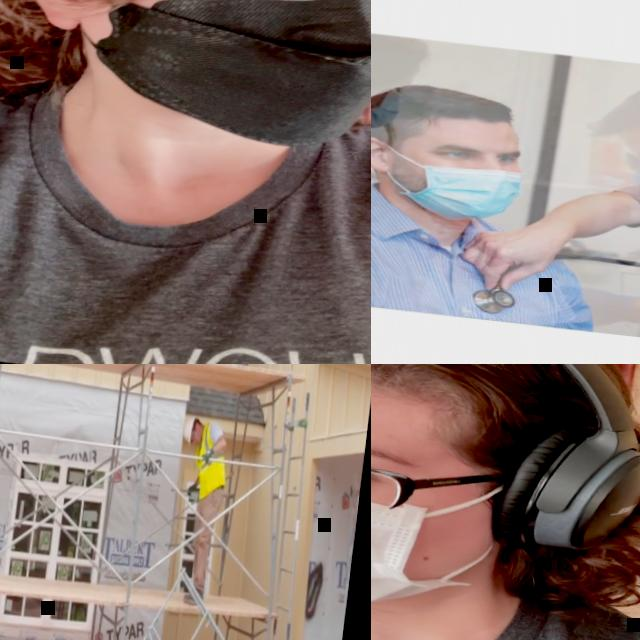Hardhat: (183, 414, 198, 444)
Mask: (46, 0, 371, 162), (371, 461, 509, 634), (414, 157, 524, 227), (371, 83, 400, 136)
NO-Hardhat: (371, 364, 636, 425), (371, 75, 522, 147), (587, 76, 640, 145), (371, 31, 437, 81), (614, 233, 640, 261)
NO-Mask: (195, 427, 203, 446)
NO-Safety Vest: (0, 83, 371, 364), (371, 548, 640, 640)
Person: (0, 0, 371, 364), (371, 364, 640, 640), (371, 61, 607, 332), (473, 45, 640, 358), (165, 413, 235, 604), (585, 70, 640, 186), (371, 28, 422, 129)
Safety Vest: (192, 418, 233, 499)
